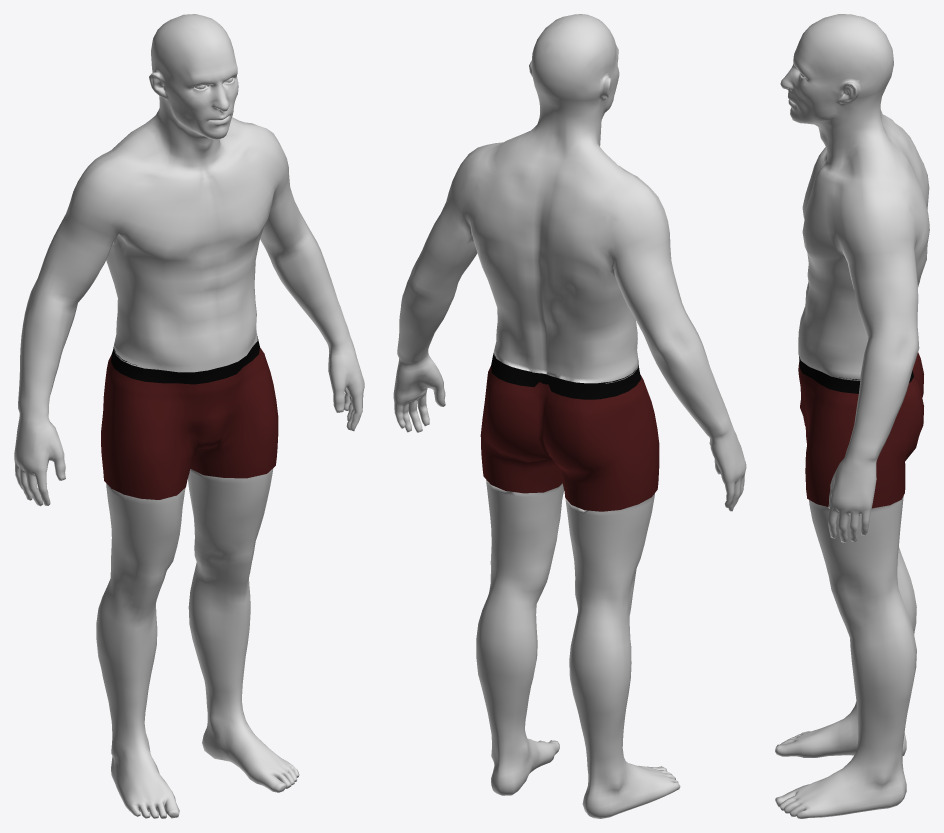
The model's file is male.fbx.
3 views of the same model, side by side, from view 1: azimuth 30°, elevation 25°; view 2: azimuth 150°, elevation 25°; view 3: azimuth 270°, elevation 25° (orthographic).
Visible parts, largest first — view 1: Realistic_White_Male_Low_Poly, Realistic_White_Male_Low_Poly.001; view 2: Realistic_White_Male_Low_Poly, Realistic_White_Male_Low_Poly.001; view 3: Realistic_White_Male_Low_Poly, Realistic_White_Male_Low_Poly.001.
Part boxes in pixels (x1=…): Realistic_White_Male_Low_Poly: x1=14, y1=14, x2=364, y2=818; Realistic_White_Male_Low_Poly.001: x1=101, y1=336, x2=278, y2=499; Realistic_White_Male_Low_Poly: x1=393, y1=14, x2=746, y2=818; Realistic_White_Male_Low_Poly.001: x1=480, y1=353, x2=659, y2=511; Realistic_White_Male_Low_Poly: x1=775, y1=14, x2=929, y2=818; Realistic_White_Male_Low_Poly.001: x1=798, y1=352, x2=923, y2=508.
Size of the model in its own units: 144 by 309 by 56.69.
